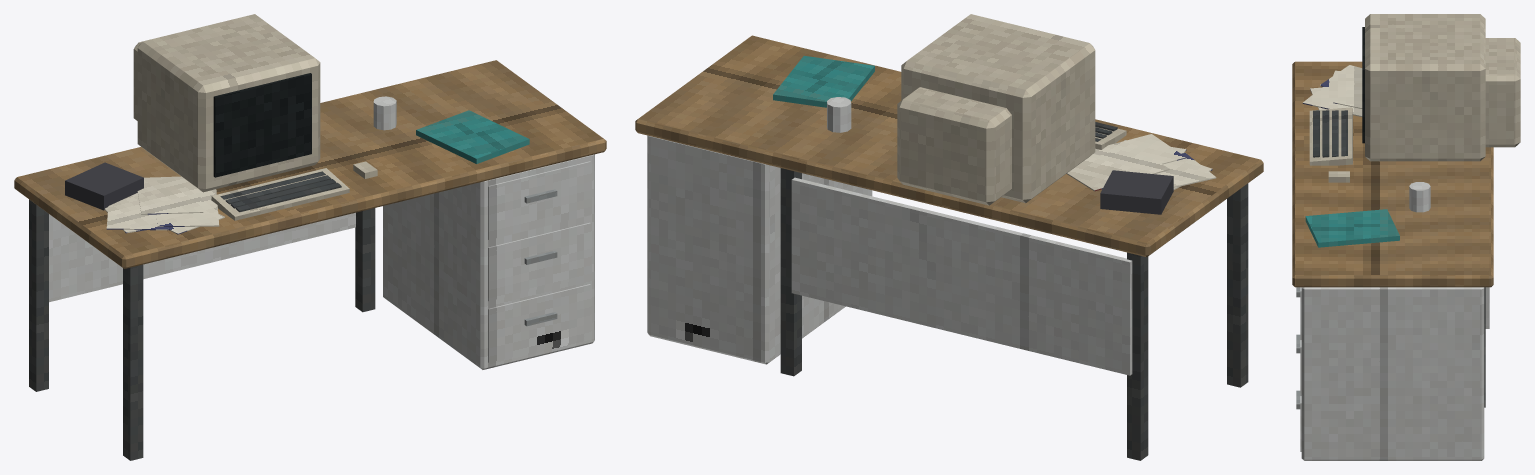
The model's file is desk_computer.glb.
3 views of the same model, side by side, from view 1: azimuth 30°, elevation 25°; view 2: azimuth 150°, elevation 25°; view 3: azimuth 270°, elevation 25° (orthographic). The views are drawn at different scales.
Parts seen in each view (by area): view 1: body, screens_dead; view 2: body; view 3: body, screens_dead.
Part boxes in pixels (bbox=[...]): body: bbox=[14, 14, 606, 460]; screens_dead: bbox=[213, 73, 311, 177]; body: bbox=[635, 14, 1263, 460]; body: bbox=[1292, 14, 1520, 460]; screens_dead: bbox=[1362, 27, 1364, 143].
Bounding box in the file's own units: 1.9 × 1.2 × 0.85.
10 materials, 9 textured.
